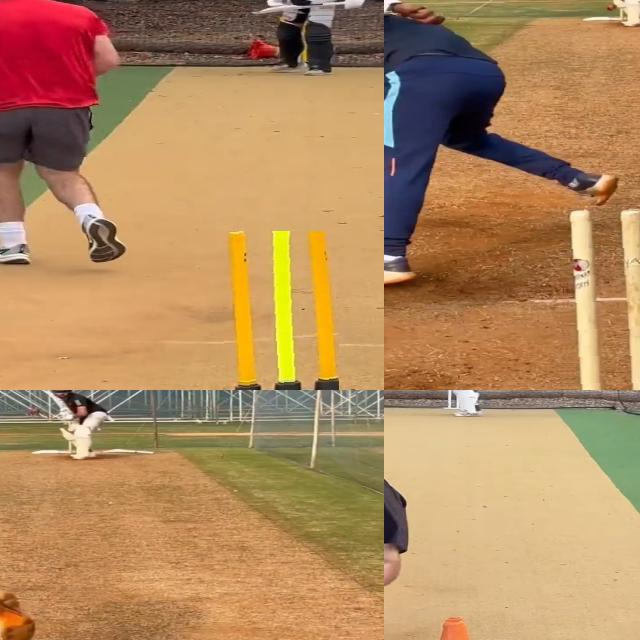Cricket ball: (28, 409, 40, 415), (606, 5, 617, 11)
Stumps: (210, 230, 338, 390), (561, 207, 640, 390), (395, 611, 505, 640)
